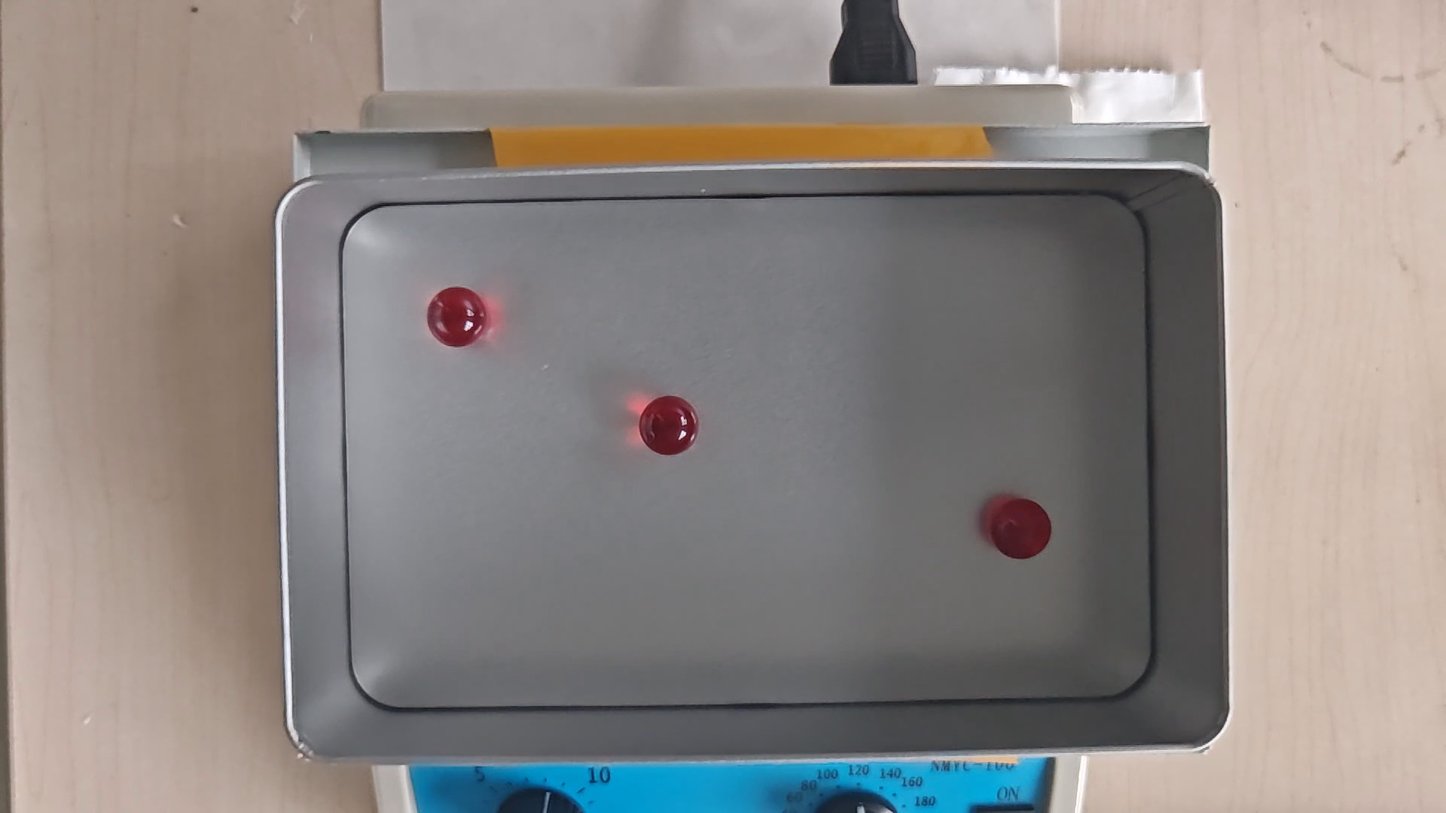ball: (988, 498, 1054, 561), (426, 286, 487, 348), (639, 394, 698, 456)
container: (346, 194, 1150, 706)
